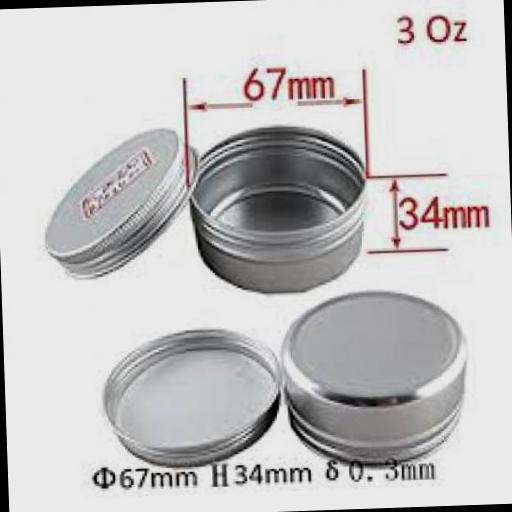metal: (276, 284, 468, 472), (187, 124, 370, 296), (36, 126, 201, 284), (98, 325, 280, 468)
